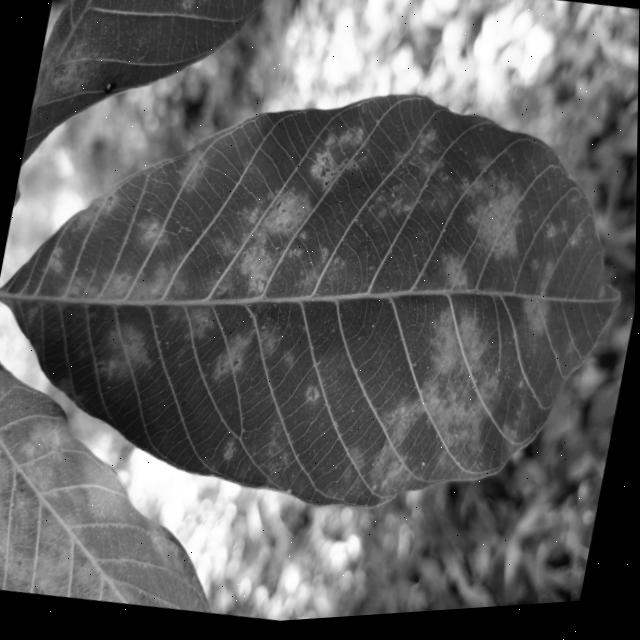Colletotrichum: (285, 223, 293, 234)
